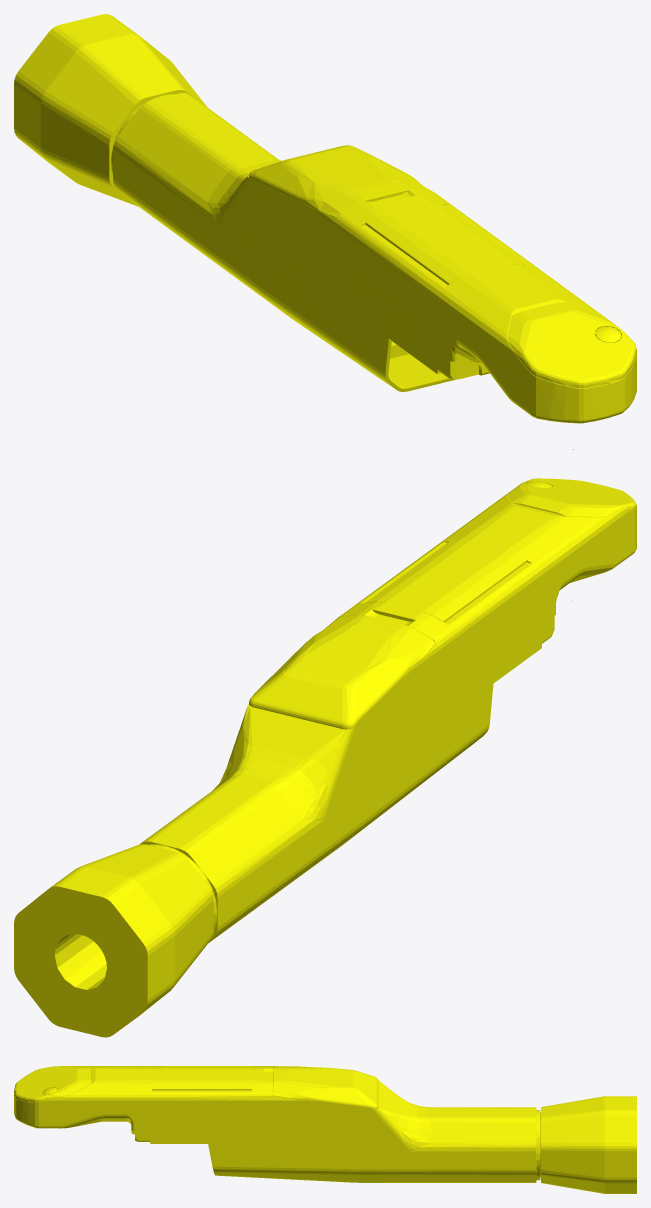
3 renders of one model, top to bottom at view 1: azimuth 30°, elevation 25°; view 2: azimuth 150°, elevation 25°; view 3: azimuth 270°, elevation 25°, orthographic. The views are drawn at different scales.
Visible parts, largest first — view 1: node; view 2: node; view 3: node.
Boxes of the visible parts, left/top/right/bottom form: node: left=14, top=14, right=636, bottom=449; node: left=14, top=478, right=636, bottom=1037; node: left=14, top=1066, right=636, bottom=1193.
Bounding box in the file's own units: 128 × 172 × 867.
